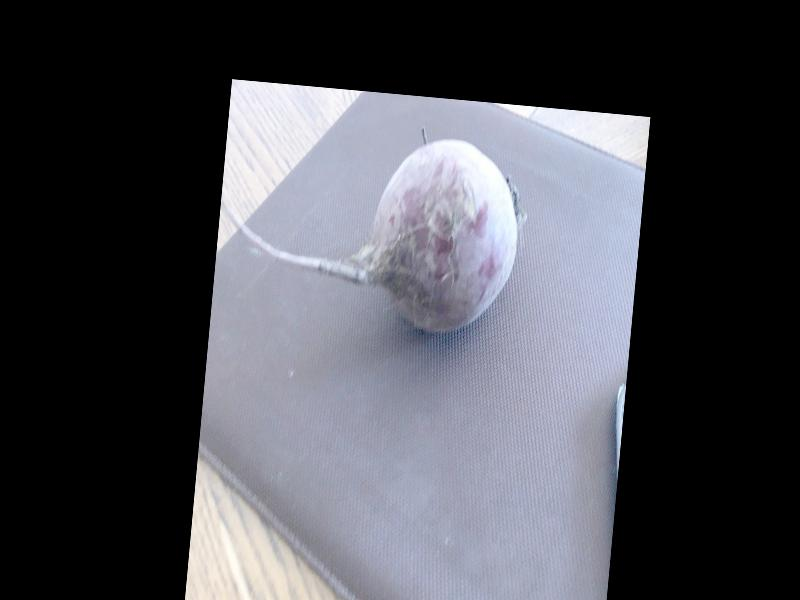Beet: (213, 120, 525, 337)
